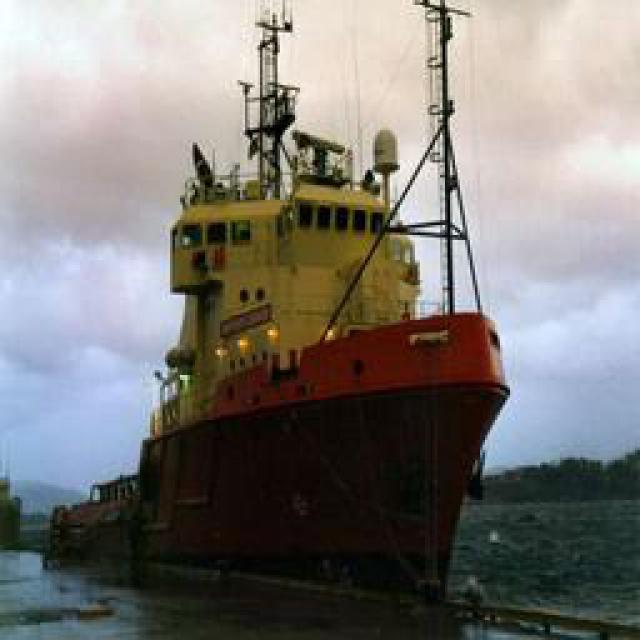Ship: (105, 1, 513, 601)
